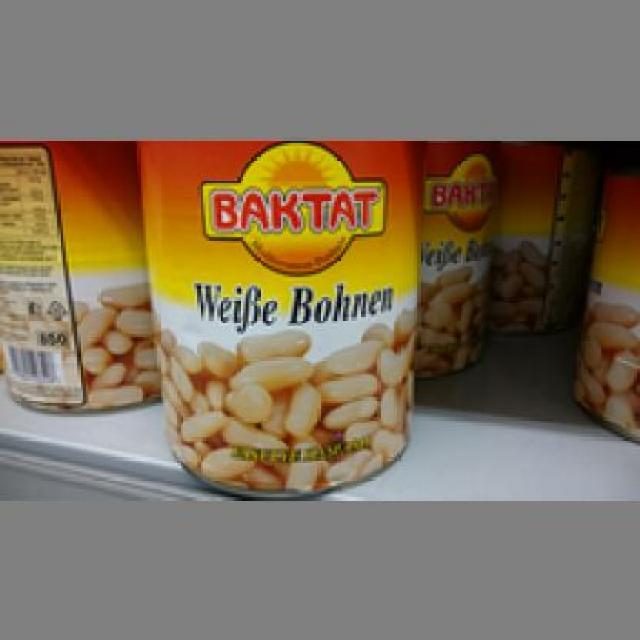Beans: (134, 137, 417, 494), (0, 136, 132, 415), (496, 137, 590, 360)
